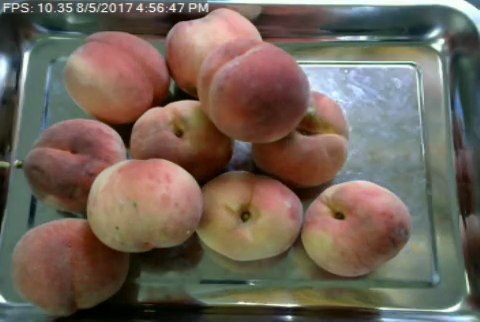Peach: (198, 37, 310, 144), (11, 216, 126, 315), (299, 180, 412, 275), (89, 155, 198, 251), (63, 29, 169, 125), (195, 171, 303, 259), (251, 89, 348, 185), (25, 119, 124, 209), (164, 8, 263, 97), (130, 102, 233, 180)
